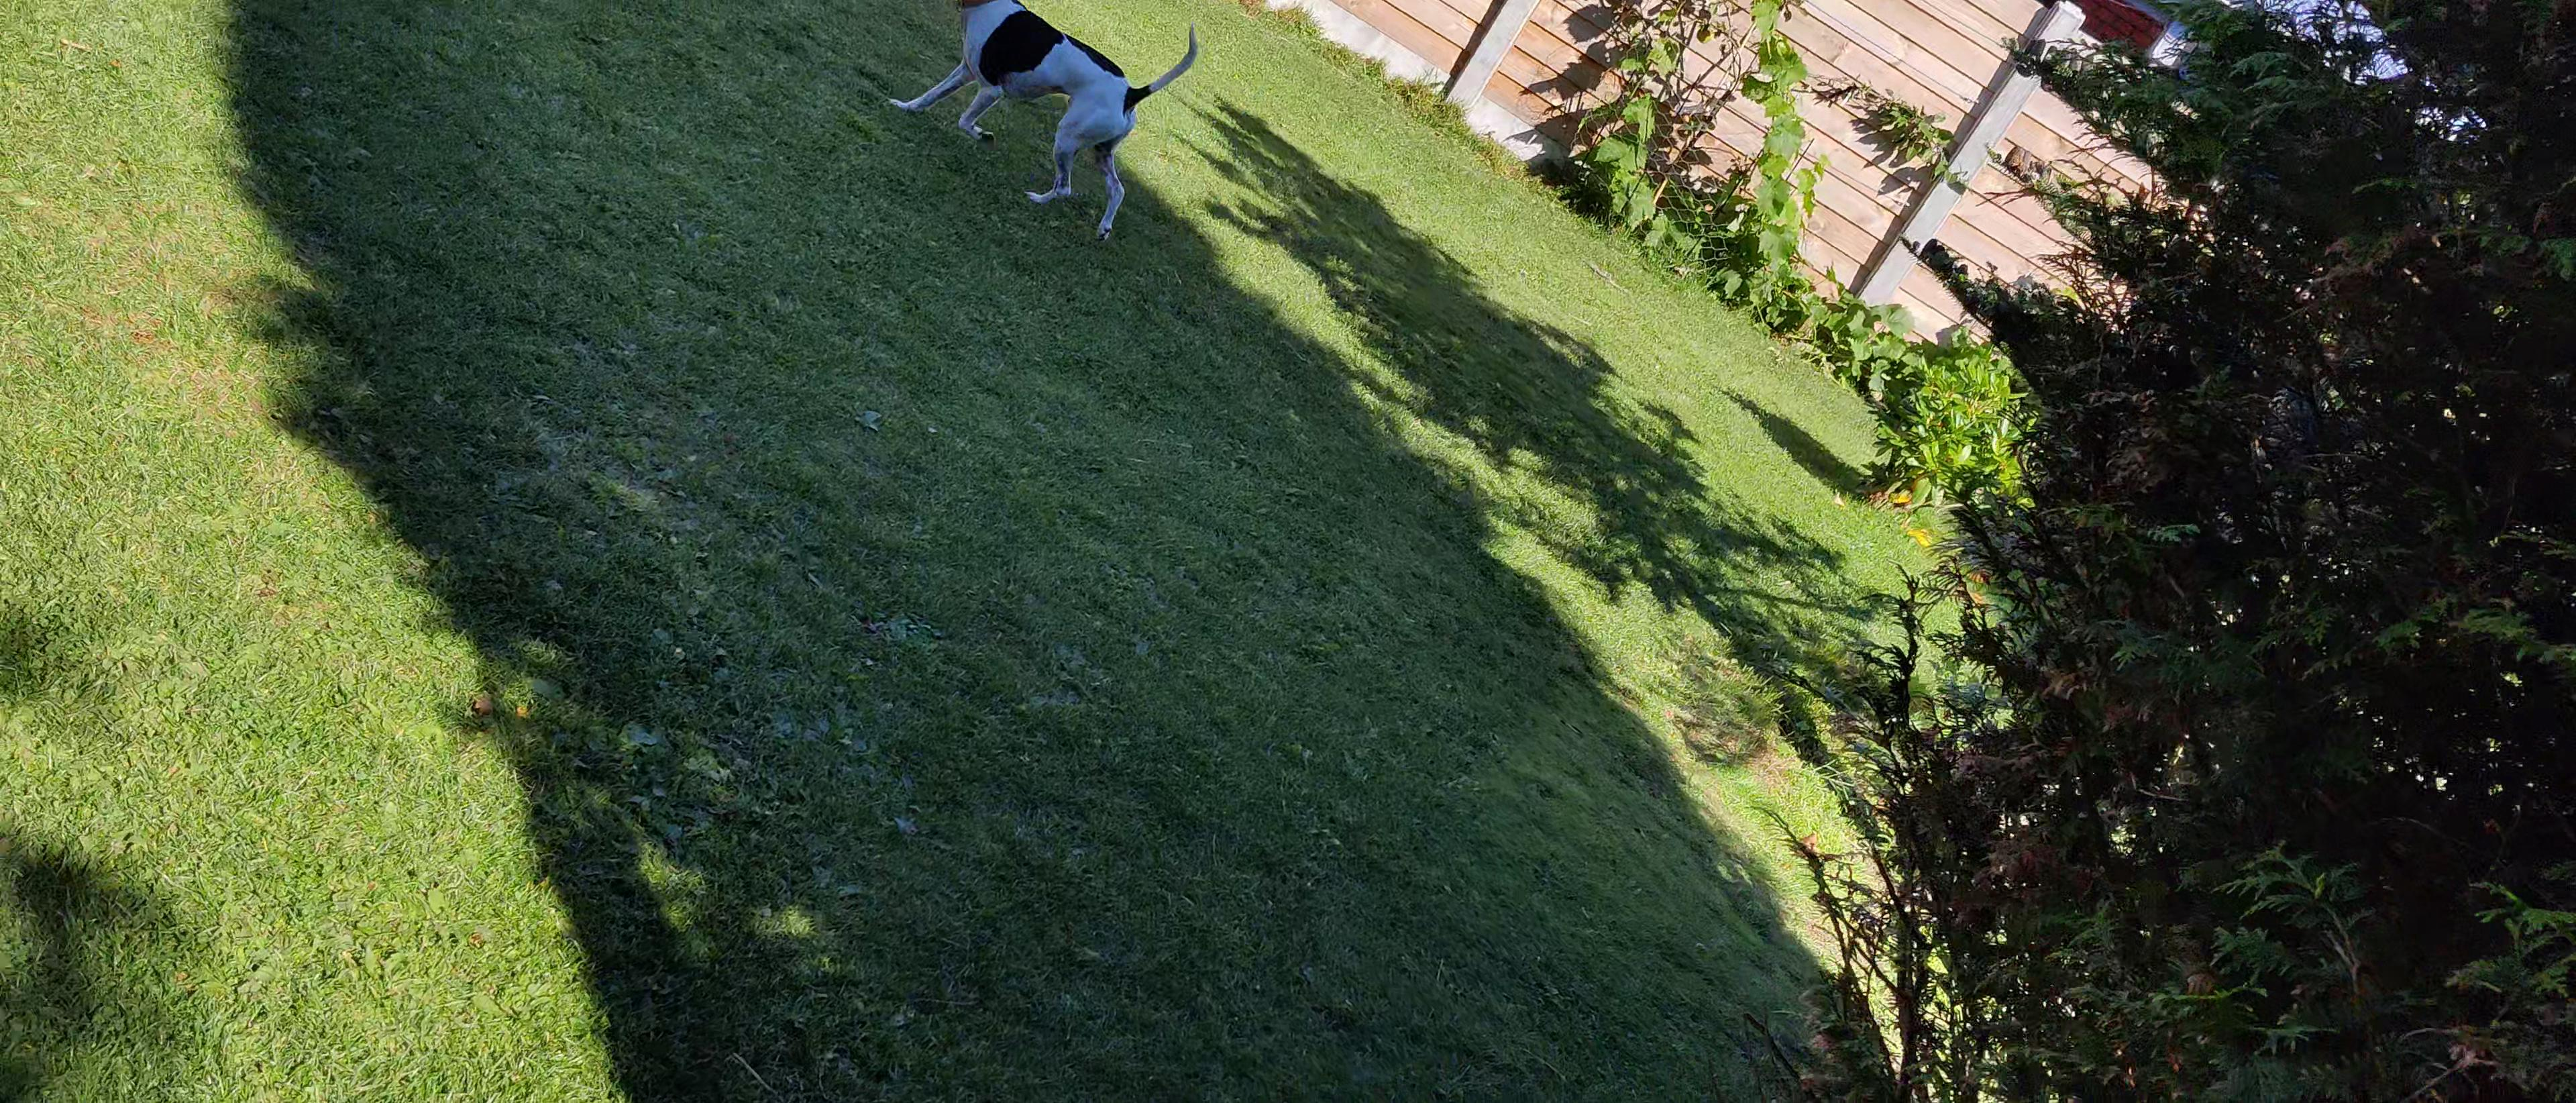Dog: (874, 0, 1204, 247)
